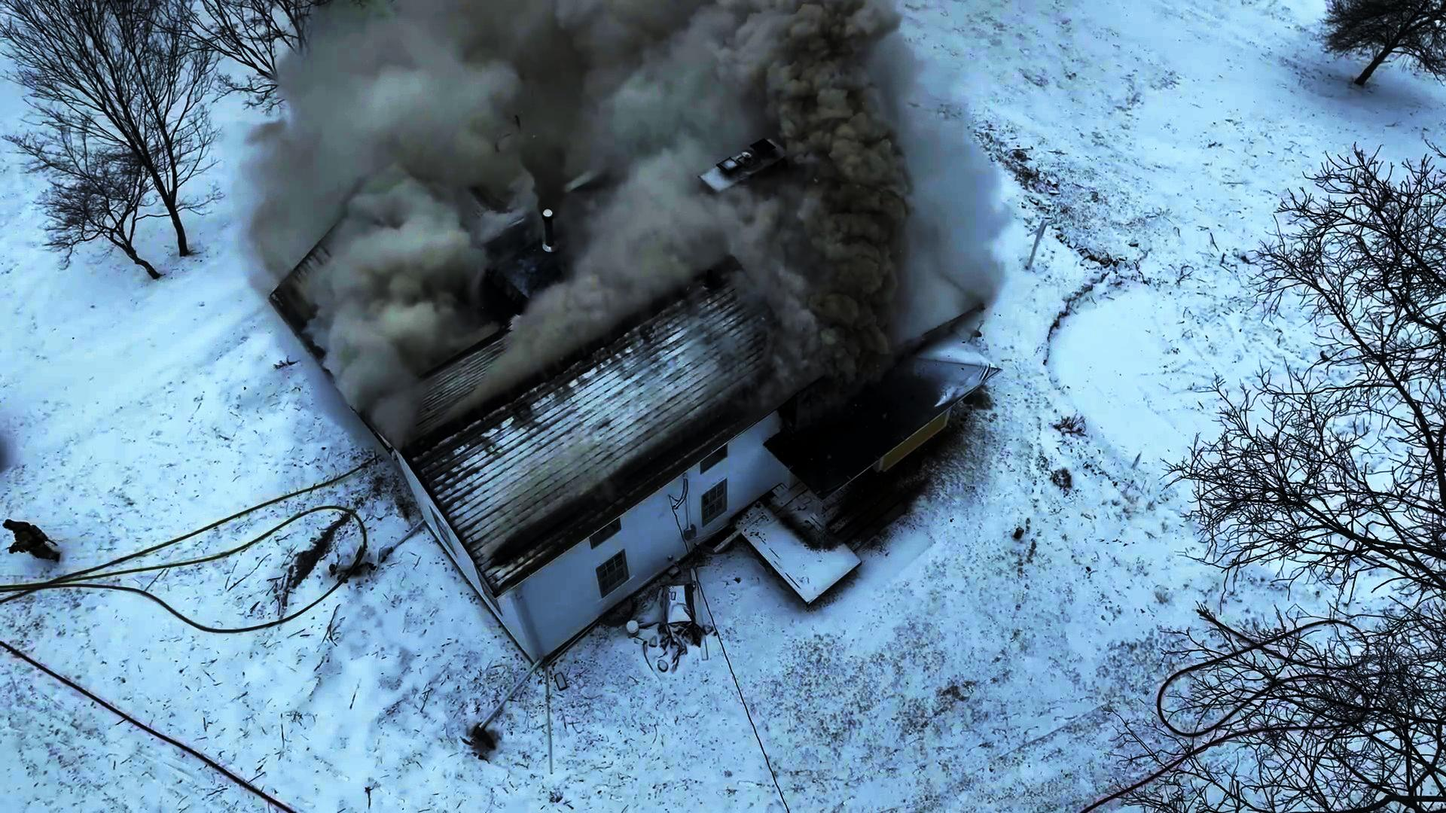smoke: (782, 47, 901, 384)
